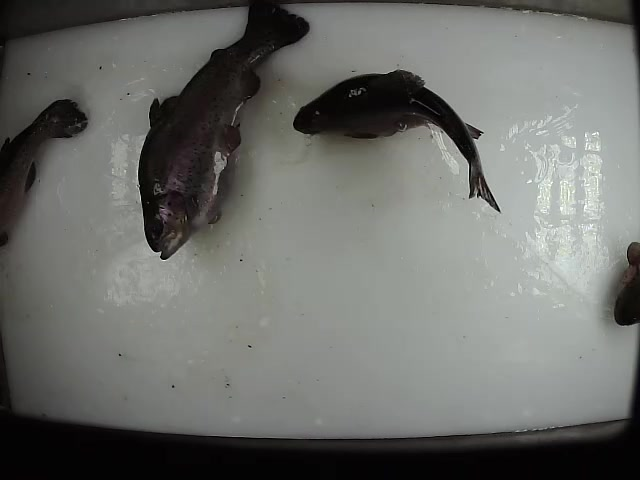fish: (137, 1, 312, 263), (292, 68, 501, 215), (1, 98, 92, 248)
